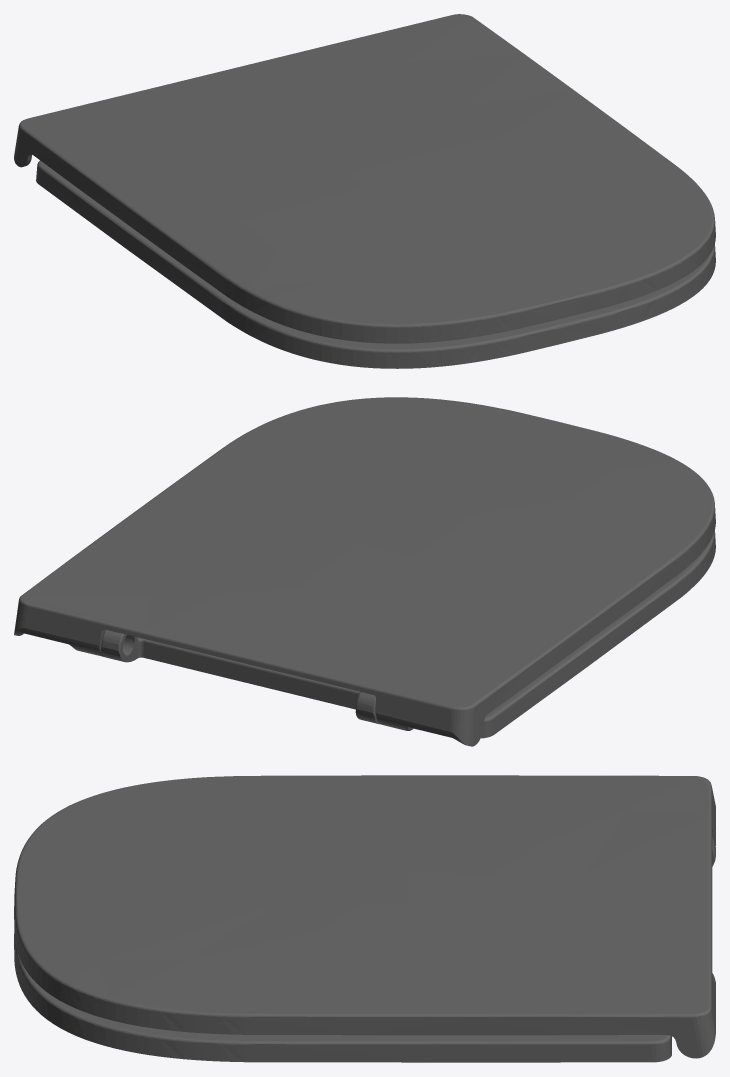
Rendered from AEC_49690.glb.
The picture shows the model from 3 angles, top to bottom: view 1: azimuth 30°, elevation 25°; view 2: azimuth 150°, elevation 25°; view 3: azimuth 270°, elevation 25°; orthographic projection. The views are drawn at different scales.
Parts seen in each view (by area): view 1: 0; view 2: 0; view 3: 0.
Boxes of the visible parts, x1=… form: 0: x1=14, y1=14, x2=715, y2=368; 0: x1=14, y1=397, x2=715, y2=746; 0: x1=14, y1=775, x2=715, y2=1062.
Bounding box in the file's own units: 0.3617 × 0.051 × 0.4427.
1 material, 1 textured.
